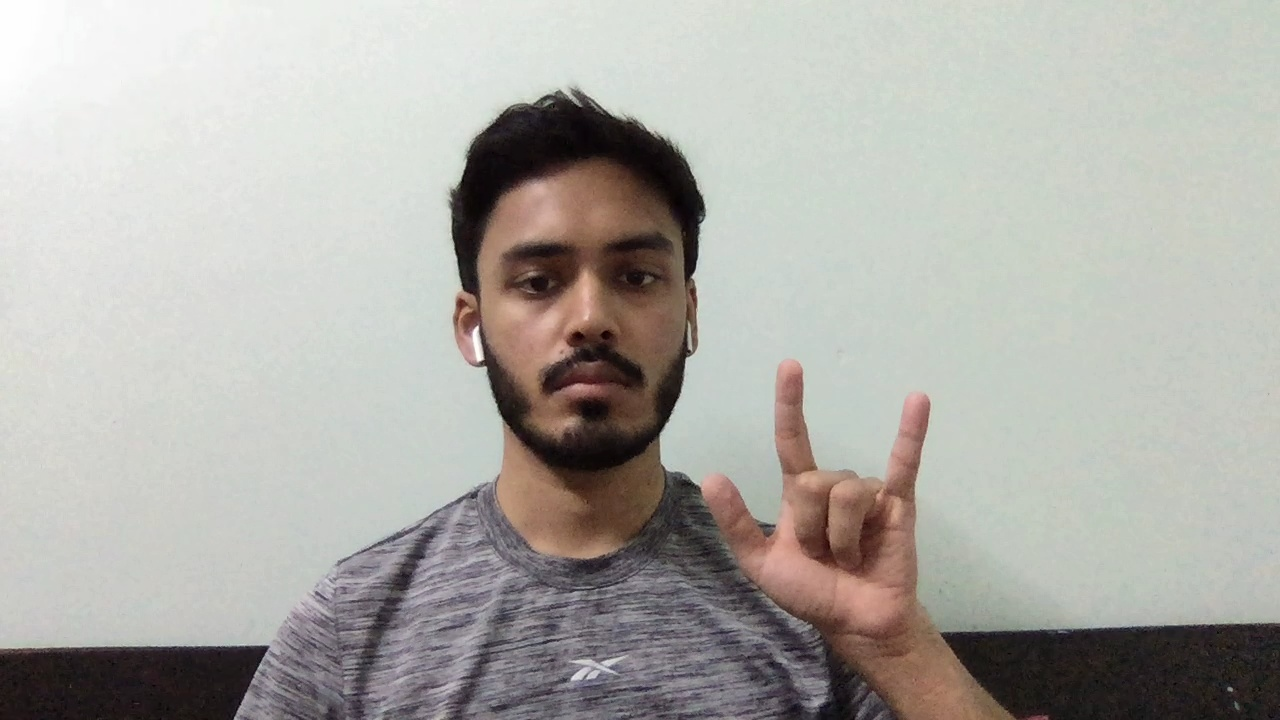I Love You: (696, 347, 954, 641)
